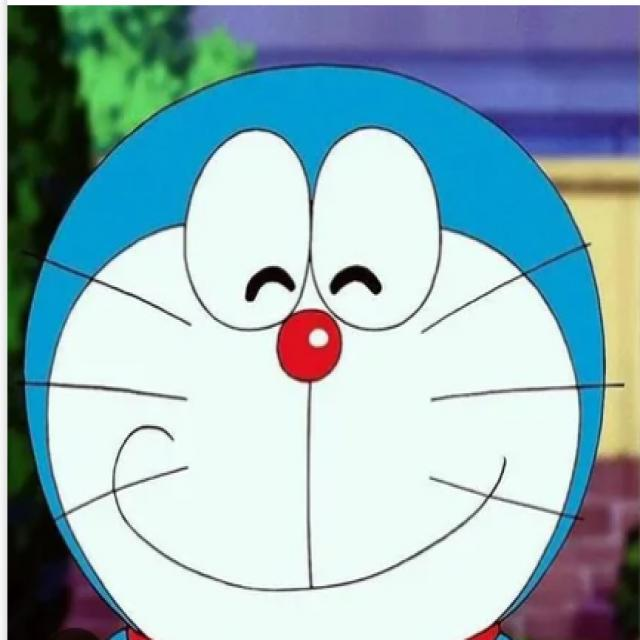Ameng: (0, 60, 628, 638)
